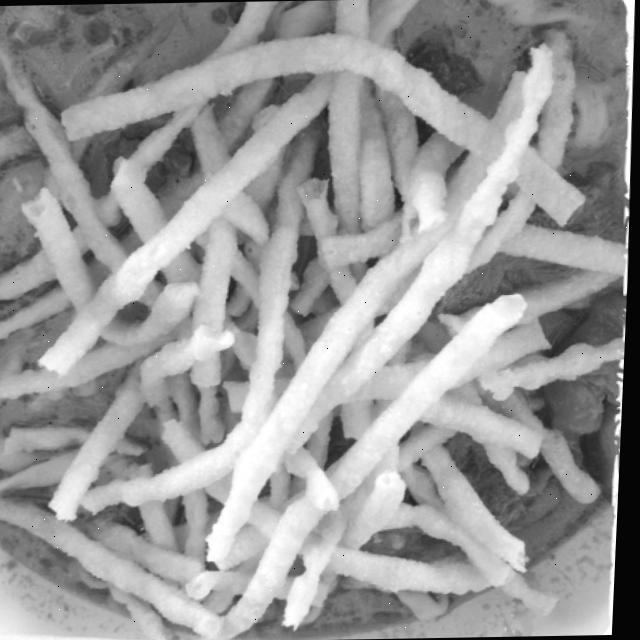面条主食: (0, 0, 631, 639)
